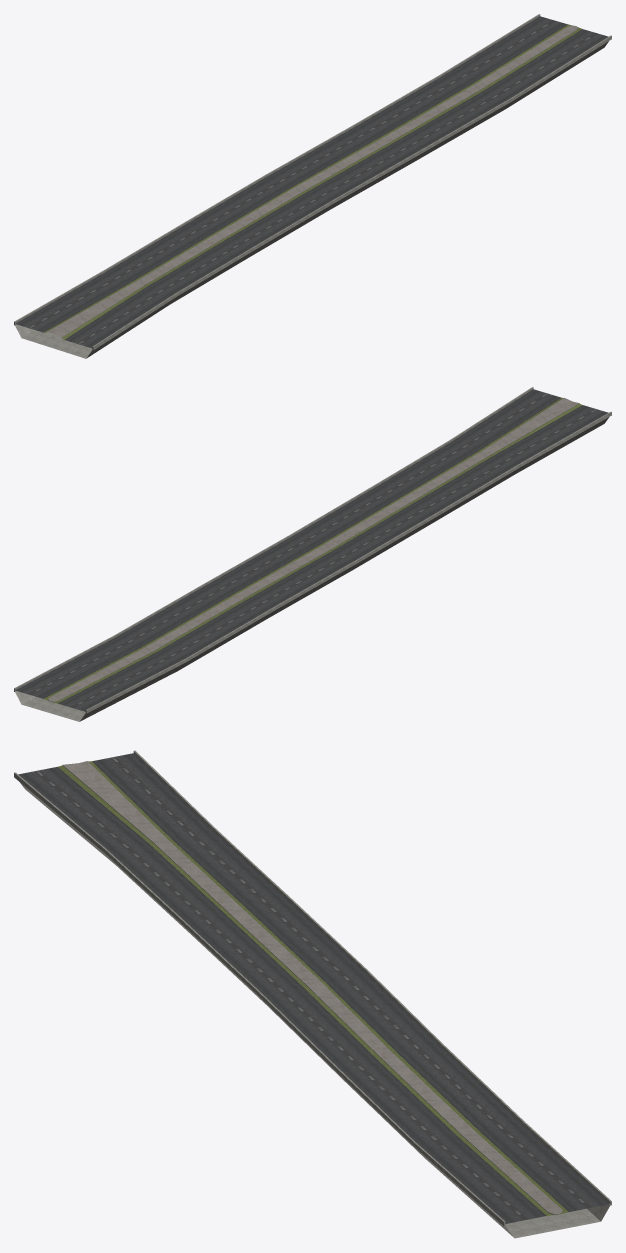
Rendered from s_bit_13.obj.
3 renders of one model, top to bottom at view 1: azimuth 30°, elevation 25°; view 2: azimuth 210°, elevation 25°; view 3: azimuth 270°, elevation 25°, orthographic. The views are drawn at different scales.
Visible parts, largest first — view 1: s_bit_13; view 2: s_bit_13; view 3: s_bit_13.
Part boxes in pixels (x1,y1,x2,y2): s_bit_13: [14, 14, 611, 358]; s_bit_13: [14, 387, 611, 721]; s_bit_13: [14, 750, 611, 1238].
Size of the model in its own units: 249 by 6.16 by 131.
5 materials, 5 textured.
